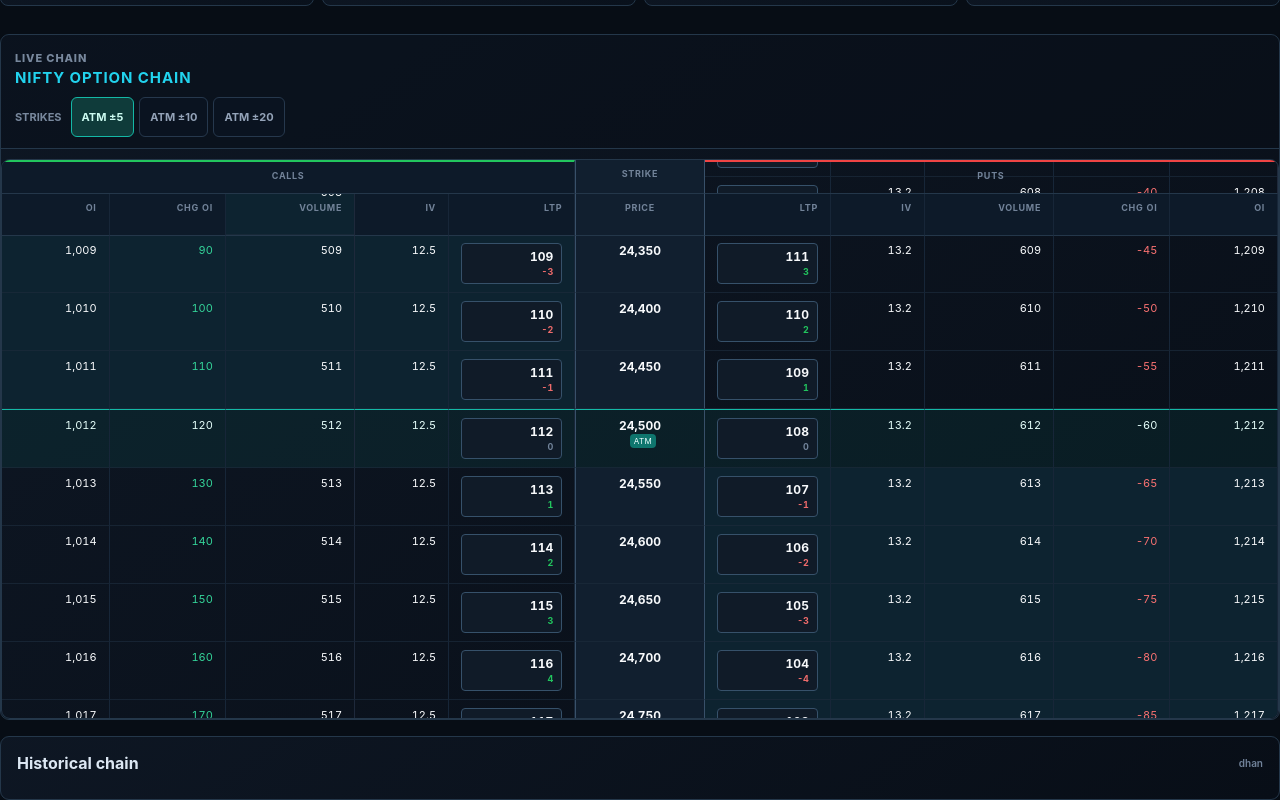
Scenario: NIFTY option chain › opens real contract candles when an option LTP is selected
This screenshot has width=1280, height=800.
(page scrolled)
Step 1. Click the button named "View NIFTY 24500 CE candles" → (512, 438), box [461,418,562,459]
(page scrolled)
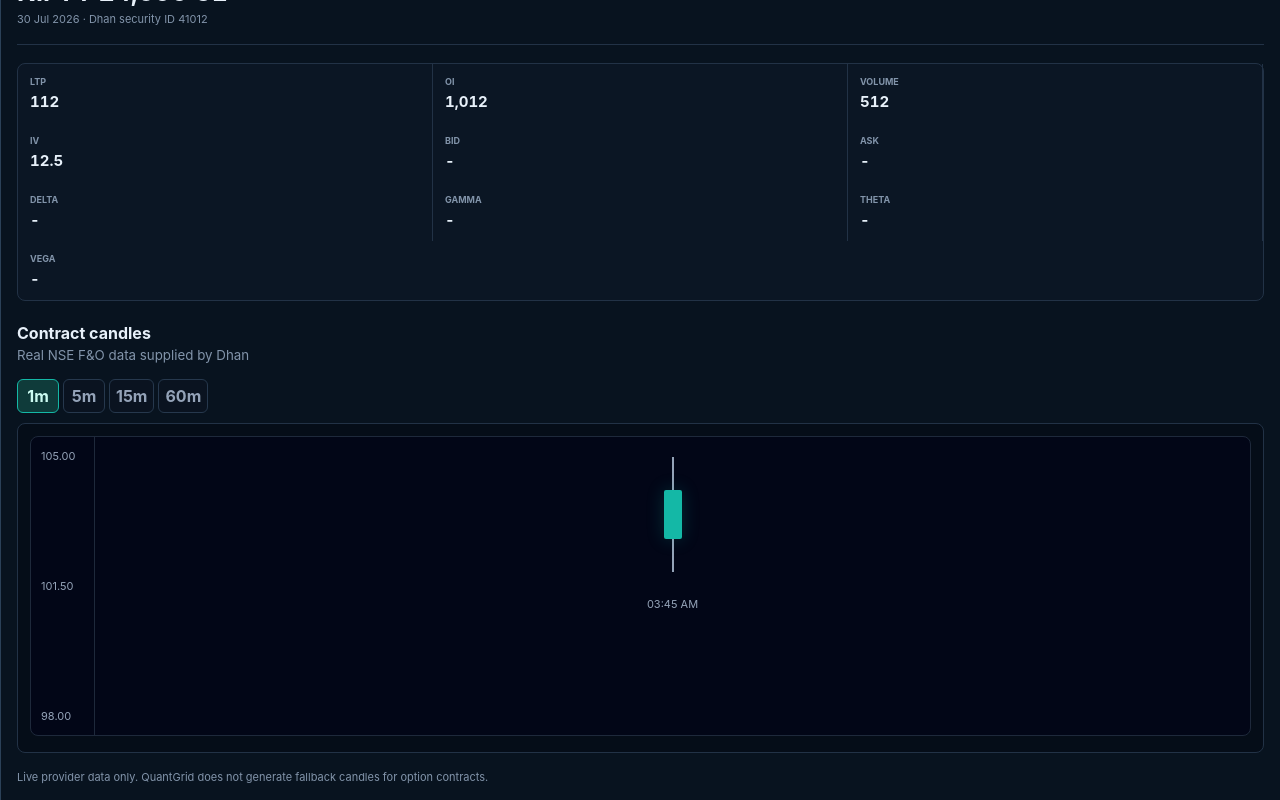
Expected: the dialog "NIFTY 24,500 CE" is shown
Expected: the picture named "NIFTY candlestick chart" is shown, [30,436,1251,736]
